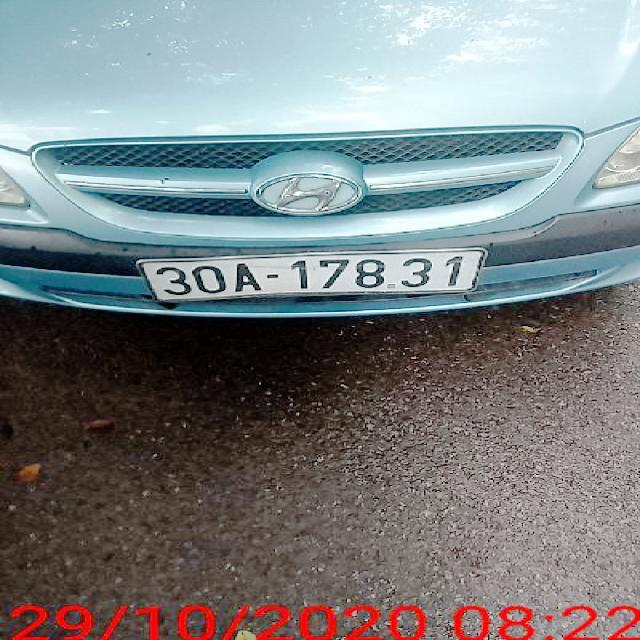license_plate: (143, 250, 481, 303)
